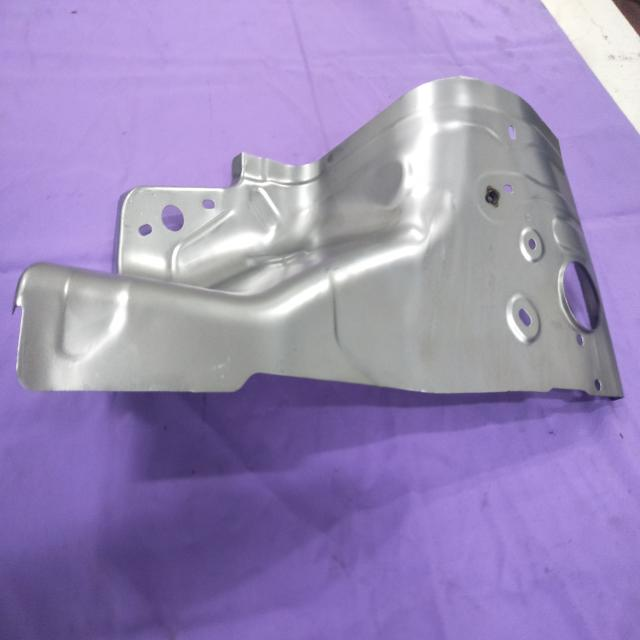Healthy: (13, 73, 624, 405)
